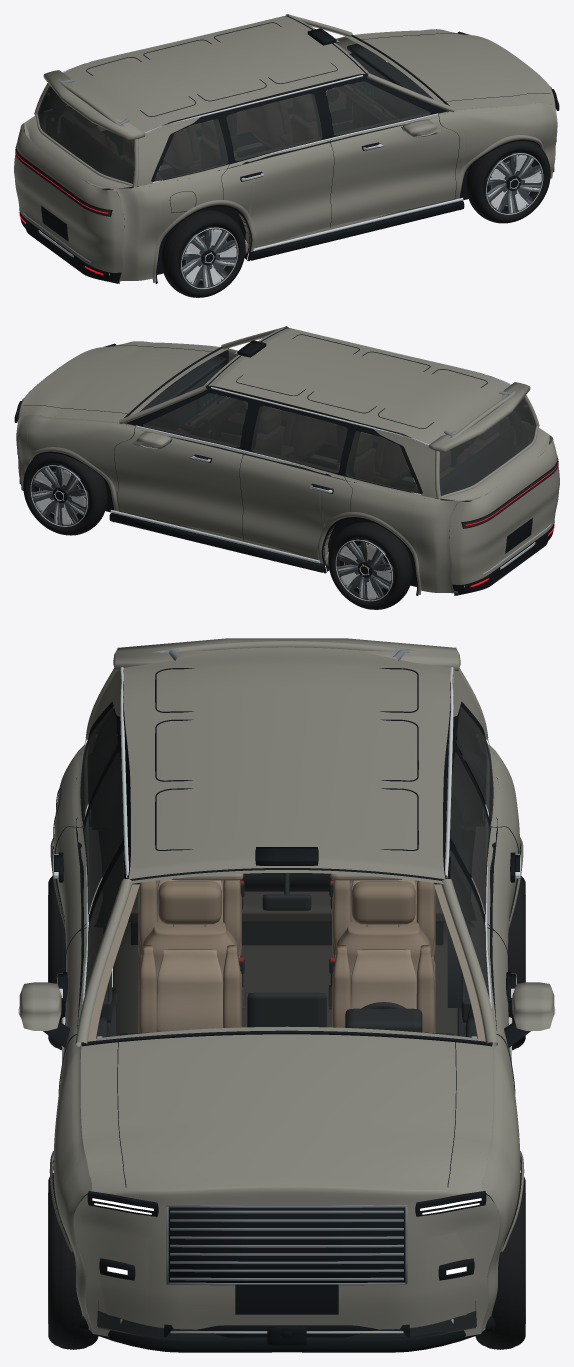
Rendered from hood-fair.glb.
The picture shows the model from 3 angles, top to bottom: view 1: azimuth 30°, elevation 25°; view 2: azimuth 150°, elevation 25°; view 3: azimuth 270°, elevation 25°; orthographic projection. The views are drawn at different scales.
Visible parts, largest first — view 1: roof_crowned_61, body_side_29_355, door_RF__body_side_29_347, hood_crowned_58, door_RR__body_side_29_351, sculpted_tailgate_154, door_RR__rear_door_glass_39_369, backlight_94, door_RF__front_door_glass_40_370, tire_221, rear_quarter_glass_38, tire_261 (+30 smaller); view 2: roof_crowned_61, body_side_1_318, door_LF__body_side_1_310, hood_crowned_58, door_LR__body_side_1_314, sculpted_tailgate_154, door_LR__rear_door_glass_11_332, backlight_94, door_LF__front_door_glass_12_333, tire_201, rear_quarter_glass_10, tire_241 (+30 smaller); view 3: roof_crowned_61, hood_crowned_58, curved_front_fascia_99, concept_grille_recess_286, cabin_continuous_carpet_2, body_side_1_318, body_side_29_355, front_bumper_152, cabin_front_right_back_insert_77, tire_241, tire_261, door_LR__rear_door_glass_11_332 (+54 smaller).
Boxes of the visible parts, x1,y1,x2,y2 form: roof_crowned_61: [63, 16, 368, 132]; body_side_29_355: [115, 102, 557, 281]; door_RF__body_side_29_347: [330, 115, 458, 226]; hood_crowned_58: [346, 29, 554, 110]; door_RR__body_side_29_351: [221, 140, 333, 248]; sculpted_tailgate_154: [14, 123, 124, 281]; door_RR__rear_door_glass_39_369: [226, 94, 322, 160]; backlight_94: [37, 86, 134, 183]; door_RF__front_door_glass_40_370: [326, 81, 430, 135]; tire_221: [161, 210, 245, 297]; rear_quarter_glass_38: [154, 119, 228, 181]; tire_261: [466, 141, 550, 223]; roof_crowned_61: [204, 328, 510, 444]; body_side_1_318: [16, 414, 458, 593]; door_LF__body_side_1_310: [114, 427, 243, 538]; hood_crowned_58: [19, 341, 227, 422]; door_LR__body_side_1_314: [240, 452, 352, 559]; sculpted_tailgate_154: [449, 435, 559, 593]; door_LR__rear_door_glass_11_332: [251, 406, 347, 472]; backlight_94: [439, 398, 536, 495]; door_LF__front_door_glass_12_333: [143, 393, 247, 447]; tire_201: [328, 522, 412, 609]; rear_quarter_glass_10: [345, 431, 419, 493]; tire_241: [23, 453, 107, 535]; roof_crowned_61: [123, 647, 450, 884]; hood_crowned_58: [80, 1026, 493, 1190]; curved_front_fascia_99: [74, 1185, 499, 1336]; concept_grille_recess_286: [168, 1207, 405, 1282]; cabin_continuous_carpet_2: [114, 922, 457, 1035]; body_side_1_318: [481, 744, 520, 1332]; body_side_29_355: [53, 744, 92, 1332]; front_bumper_152: [78, 1316, 495, 1352]; cabin_front_right_back_insert_77: [157, 949, 223, 1031]; tire_241: [475, 1173, 525, 1349]; tire_261: [48, 1173, 98, 1349]; door_LR__rear_door_glass_11_332: [450, 752, 490, 914].
Bounding box in the file's own units: 4.94 × 1.8 × 2.44.
